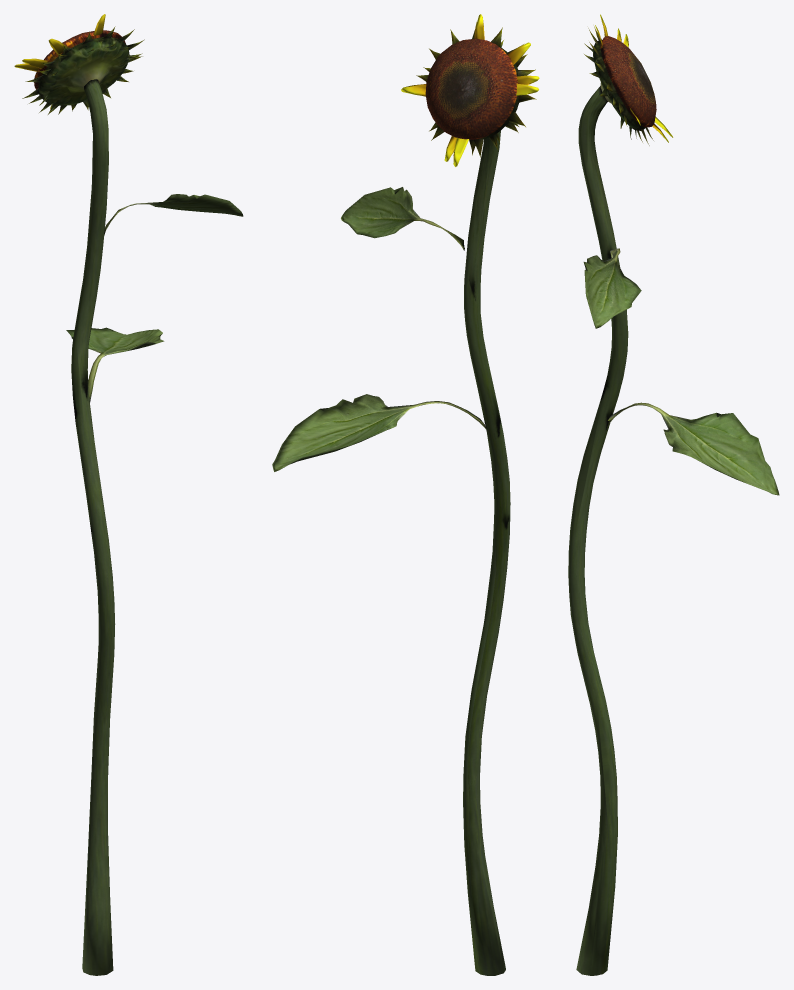
Rendered from Girasole09.fbx.
The picture shows the model from 3 angles, left to right: view 1: azimuth 30°, elevation 25°; view 2: azimuth 150°, elevation 25°; view 3: azimuth 270°, elevation 25°; orthographic projection.
Visible parts, largest first — view 1: Girasole09; view 2: Girasole09; view 3: Girasole09.
Boxes of the visible parts, x1,y1,x2,y2 form: Girasole09: [14, 14, 243, 975]; Girasole09: [272, 14, 539, 975]; Girasole09: [568, 14, 779, 975].
Size of the model in its own units: 19.91 by 84.81 by 17.12.
